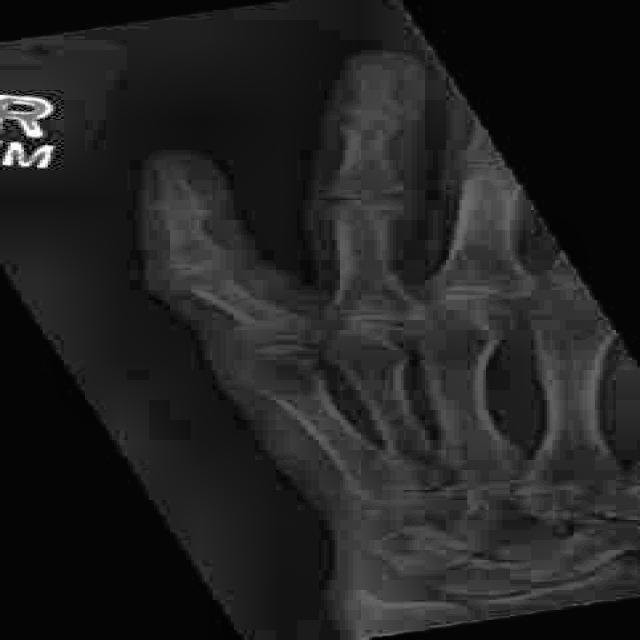fingers positive: (211, 310, 338, 351), (156, 269, 261, 300)
